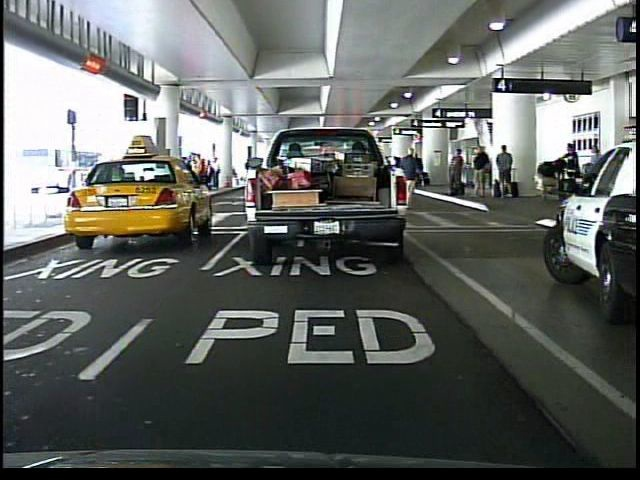person: (347, 139, 380, 218), (398, 144, 424, 213), (561, 138, 583, 200)
